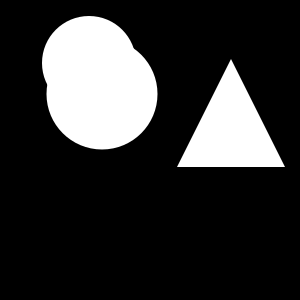rectangle: (47, 39, 158, 150), (42, 16, 136, 110)
triangle: (177, 59, 285, 167)
